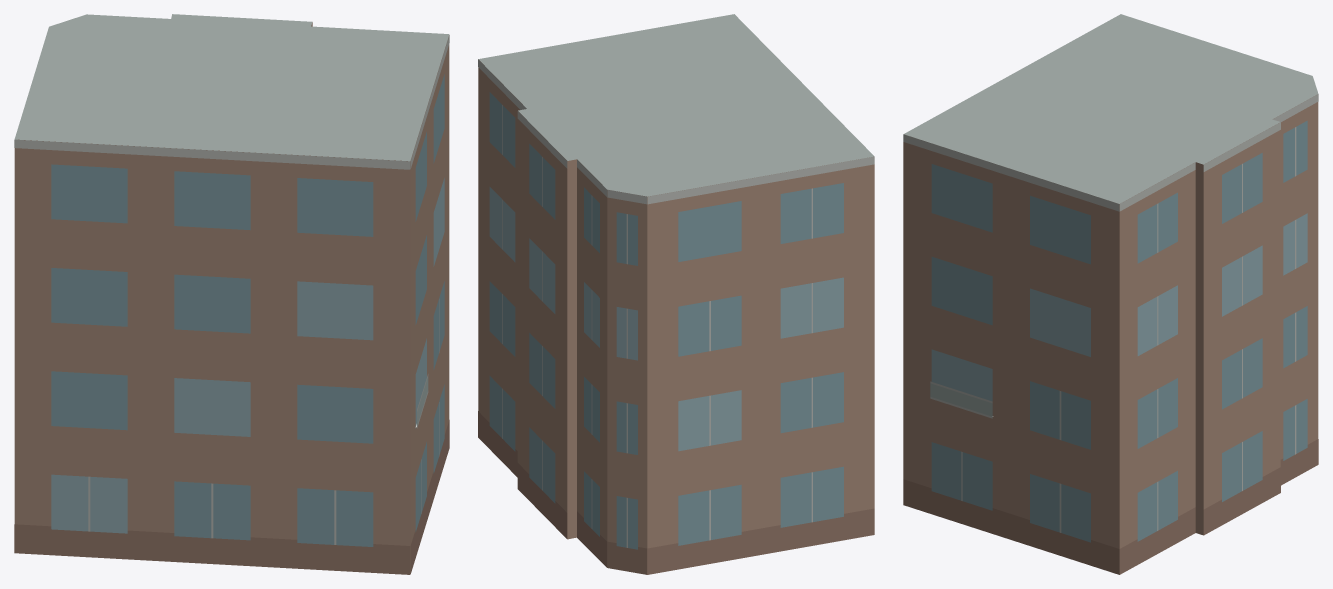
The model's file is survey-upis-32698083.glb.
3 renders of one model, left to right at view 1: azimuth 30°, elevation 25°; view 2: azimuth 150°, elevation 25°; view 3: azimuth 270°, elevation 25°, orthographic. The views are drawn at different scales.
Visible parts, largest first — view 1: survey-upis-32698083.tmp; view 2: survey-upis-32698083.tmp; view 3: survey-upis-32698083.tmp.
Part boxes in pixels (x1,y1,x2,y2): survey-upis-32698083.tmp: (14,14,449,574); survey-upis-32698083.tmp: (478,14,874,574); survey-upis-32698083.tmp: (903,14,1318,574).
Bounding box in the file's own units: 12.92 × 11.75 × 11.93.
